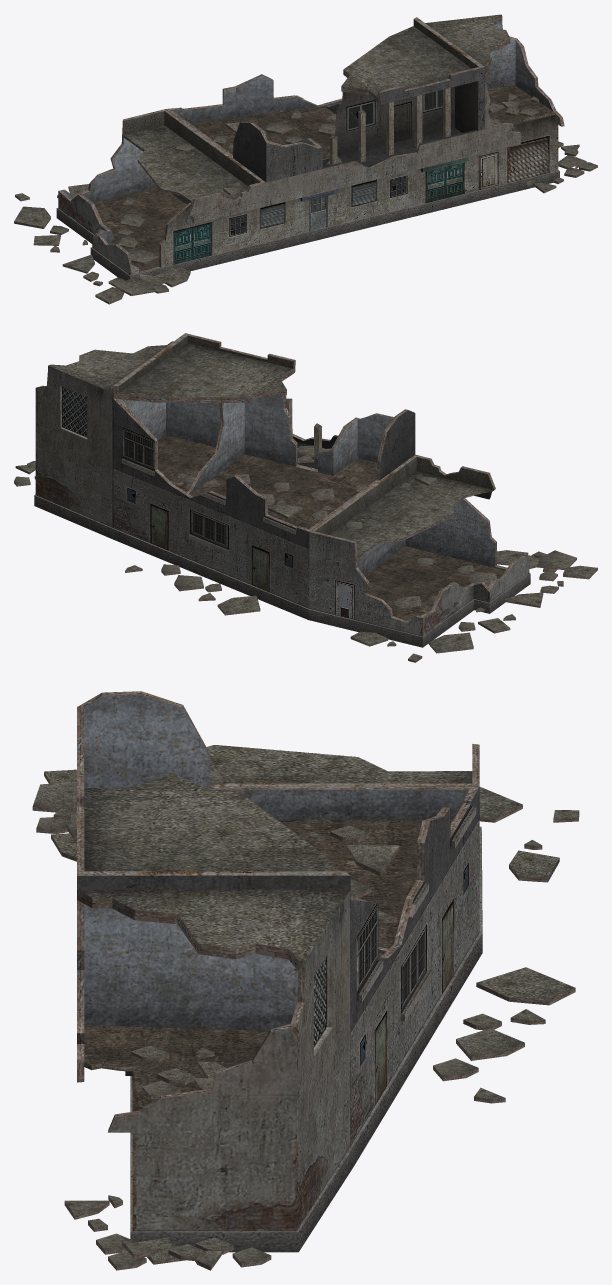
Rendered from buildings_22_ruin.FBX.
3 views of the same model, one above another, from view 1: azimuth 30°, elevation 25°; view 2: azimuth 150°, elevation 25°; view 3: azimuth 270°, elevation 25° (orthographic). The views are drawn at different scales.
Visible parts, largest first — view 1: Box002; view 2: Box002; view 3: Box002.
Part boxes in pixels (box(x1,y1,x2,y2)): Box002: box(14, 14, 597, 304); Box002: box(14, 333, 597, 662); Box002: box(32, 691, 579, 1270).
Size of the model in its own units: 3236 by 1488 by 873.
1 material, 1 textured.
